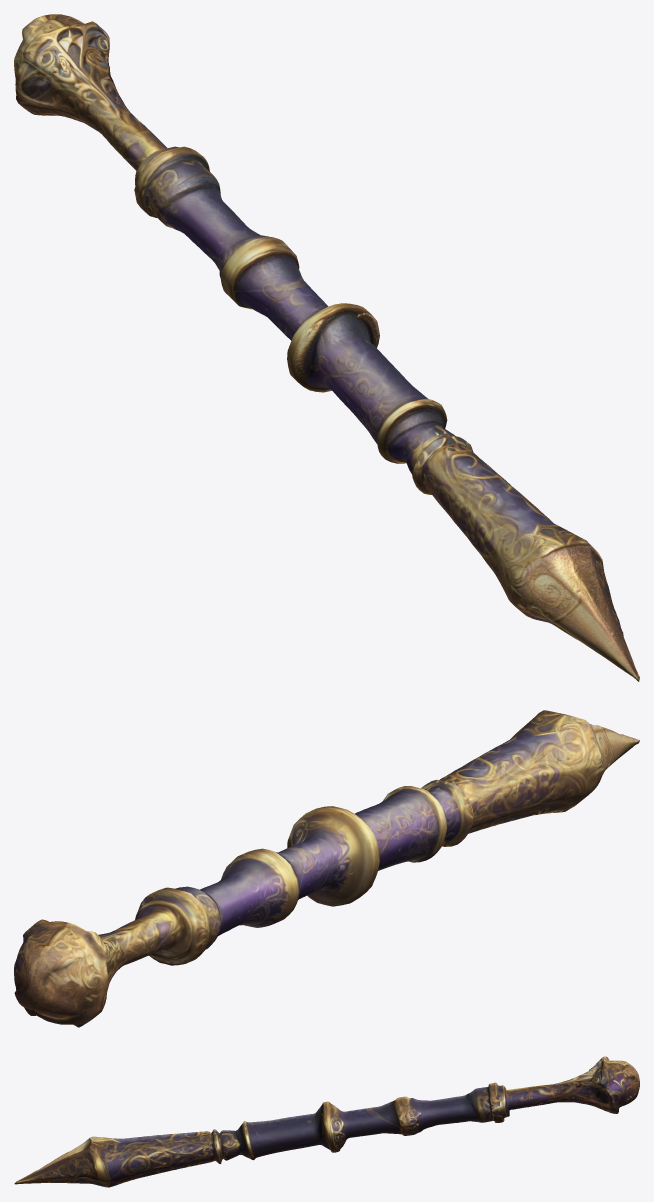
File: stylized_magic_wand_0613140259_texture.fbx
3 renders of one model, top to bottom at view 1: azimuth 30°, elevation 25°; view 2: azimuth 150°, elevation 25°; view 3: azimuth 270°, elevation 25°, orthographic. The views are drawn at different scales.
Parts seen in each view (by area): view 1: Mesh1_Mesh1.009; view 2: Mesh1_Mesh1.009; view 3: Mesh1_Mesh1.009.
Boxes of the visible parts, x1=… form: Mesh1_Mesh1.009: x1=14, y1=14, x2=639, y2=681; Mesh1_Mesh1.009: x1=14, y1=710, x2=639, y2=1027; Mesh1_Mesh1.009: x1=14, y1=1056, x2=639, y2=1187.
Bounding box in the file's own units: 17.37 × 43.3 × 200.
Materials: 1 (1 with a texture image).
